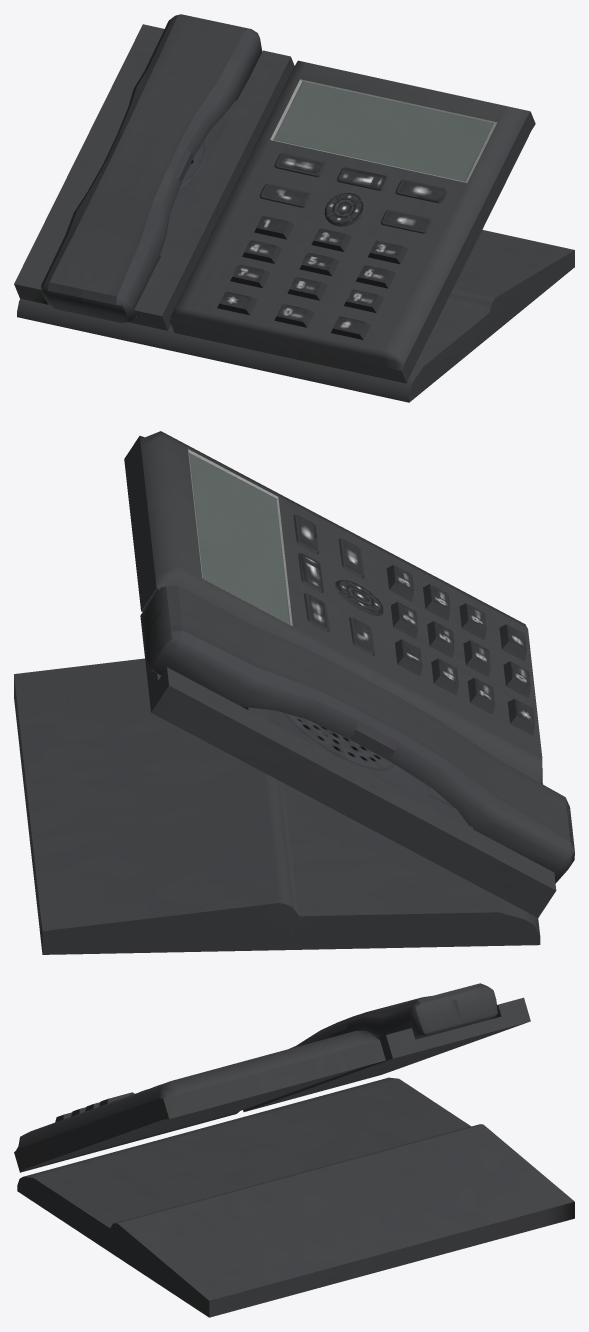
The model's file is Modular Asset 1.fbx.
The picture shows the model from 3 angles, top to bottom: view 1: azimuth 30°, elevation 25°; view 2: azimuth 150°, elevation 25°; view 3: azimuth 270°, elevation 25°; orthographic projection. The views are drawn at different scales.
Visible parts, largest first — view 1: polySurface4; view 2: polySurface4; view 3: polySurface4.
Boxes of the visible parts, x1=… form: polySurface4: x1=14, y1=14, x2=574, y2=402; polySurface4: x1=14, y1=431, x2=574, y2=954; polySurface4: x1=14, y1=983, x2=574, y2=1317.
Size of the model in its own units: 2.5 by 1.07 by 2.59.
1 material, 1 textured.
